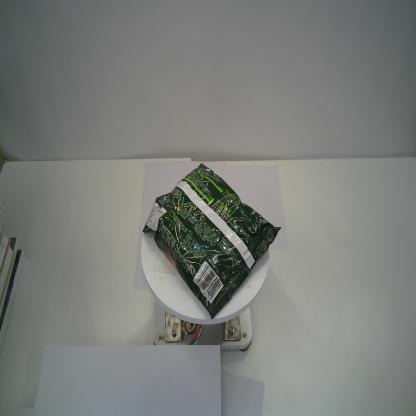Instant Noodles: (142, 162, 282, 320)
